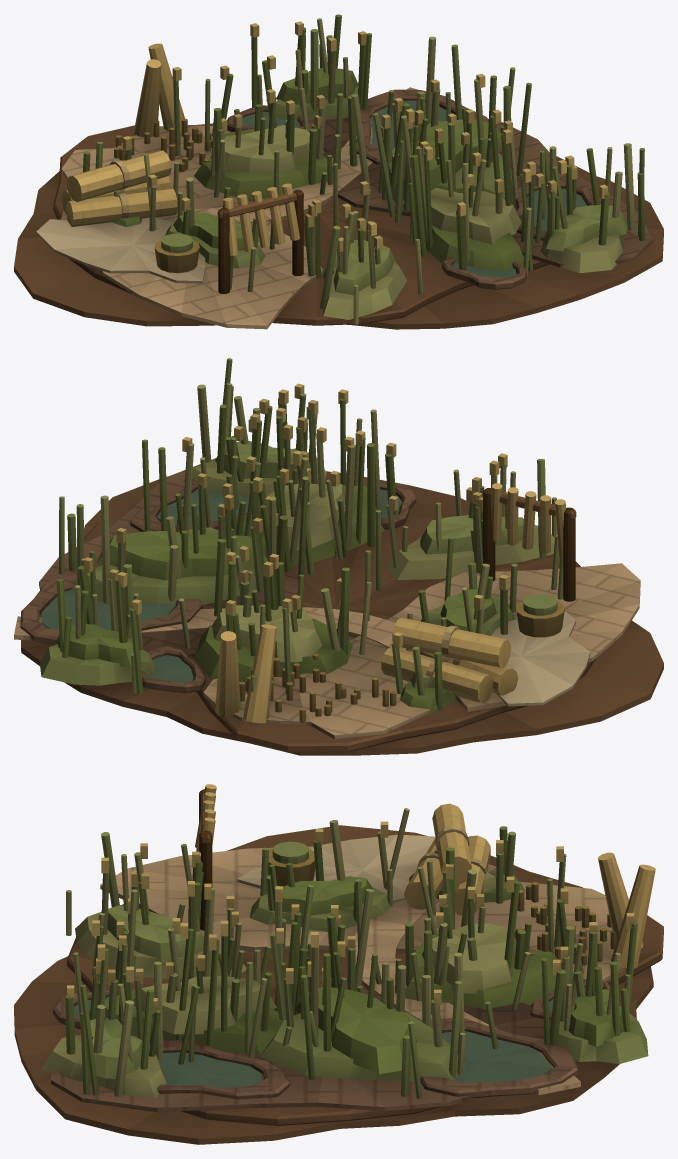
File: marsh_reed_bed.glb
3 renders of one model, top to bottom at view 1: azimuth 30°, elevation 25°; view 2: azimuth 150°, elevation 25°; view 3: azimuth 270°, elevation 25°, orthographic. The views are drawn at different scales.
Parts seen in each view (by area): view 1: marsh_rush_bed_soil_dark, marsh_rush_bed_crop_deep, marsh_rush_bed_crop_light, marsh_rush_bed_crop_green, marsh_rush_bed_mud_tan, marsh_rush_bed_thatch_mat, marsh_rush_bed_mud_dark, marsh_rush_bed_crop_amber, marsh_rush_bed_sand_spit, marsh_rush_bed_thatch_dark, marsh_rush_bed_channel_water, marsh_rush_bed_wood_dark (+1 smaller); view 2: marsh_rush_bed_crop_deep, marsh_rush_bed_soil_dark, marsh_rush_bed_crop_light, marsh_rush_bed_crop_green, marsh_rush_bed_mud_tan, marsh_rush_bed_thatch_mat, marsh_rush_bed_mud_dark, marsh_rush_bed_crop_amber, marsh_rush_bed_sand_spit, marsh_rush_bed_channel_water, marsh_rush_bed_thatch_dark, marsh_rush_bed_wood_dark; view 3: marsh_rush_bed_crop_deep, marsh_rush_bed_crop_light, marsh_rush_bed_crop_green, marsh_rush_bed_soil_dark, marsh_rush_bed_mud_dark, marsh_rush_bed_mud_tan, marsh_rush_bed_thatch_mat, marsh_rush_bed_crop_amber, marsh_rush_bed_channel_water, marsh_rush_bed_sand_spit, marsh_rush_bed_thatch_dark, marsh_rush_bed_wood_dark.
Part boxes in pixels (left/top/right/bottom): marsh_rush_bed_soil_dark: left=14, top=123, right=663, bottom=329; marsh_rush_bed_crop_deep: left=83, top=14, right=645, bottom=278; marsh_rush_bed_crop_light: left=114, top=18, right=635, bottom=324; marsh_rush_bed_crop_green: left=95, top=29, right=626, bottom=308; marsh_rush_bed_mud_tan: left=61, top=87, right=418, bottom=329; marsh_rush_bed_thatch_mat: left=61, top=43, right=299, bottom=255; marsh_rush_bed_mud_dark: left=227, top=89, right=652, bottom=289; marsh_rush_bed_crop_amber: left=122, top=21, right=607, bottom=251; marsh_rush_bed_sand_spit: left=36, top=217, right=205, bottom=283; marsh_rush_bed_thatch_dark: left=105, top=118, right=211, bottom=273; marsh_rush_bed_channel_water: left=242, top=101, right=587, bottom=277; marsh_rush_bed_wood_dark: left=218, top=189, right=303, bottom=293; marsh_rush_bed_crop_deep: left=55, top=358, right=507, bottom=714; marsh_rush_bed_soil_dark: left=21, top=471, right=663, bottom=755; marsh_rush_bed_crop_light: left=75, top=383, right=563, bottom=693; marsh_rush_bed_crop_green: left=39, top=393, right=557, bottom=722; marsh_rush_bed_mud_tan: left=14, top=563, right=640, bottom=739; marsh_rush_bed_thatch_mat: left=215, top=483, right=566, bottom=723; marsh_rush_bed_mud_dark: left=20, top=458, right=416, bottom=693; marsh_rush_bed_crop_amber: left=83, top=383, right=508, bottom=647; marsh_rush_bed_sand_spit: left=491, top=611, right=590, bottom=706; marsh_rush_bed_channel_water: left=41, top=488, right=402, bottom=682; marsh_rush_bed_thatch_dark: left=239, top=601, right=564, bottom=722; marsh_rush_bed_wood_dark: left=483, top=488, right=575, bottom=601; marsh_rush_bed_crop_deep: left=65, top=826, right=637, bottom=1095; marsh_rush_bed_crop_light: left=41, top=808, right=630, bottom=1098; marsh_rush_bed_crop_green: left=90, top=831, right=648, bottom=1098; marsh_rush_bed_soil_dark: left=14, top=825, right=663, bottom=1144; marsh_rush_bed_mud_dark: left=51, top=979, right=610, bottom=1112; marsh_rush_bed_mud_tan: left=100, top=846, right=626, bottom=1095; marsh_rush_bed_thatch_mat: left=195, top=784, right=655, bottom=968; marsh_rush_bed_crop_amber: left=67, top=821, right=634, bottom=1013; marsh_rush_bed_channel_water: left=74, top=987, right=585, bottom=1088; marsh_rush_bed_sand_spit: left=237, top=834, right=435, bottom=902; marsh_rush_bed_thatch_dark: left=268, top=849, right=616, bottom=965; marsh_rush_bed_wood_dark: left=199, top=789, right=212, bottom=930.
Bounding box in the file's own units: 3.31 × 0.7102 × 2.9.
14 materials, 9 textured.
